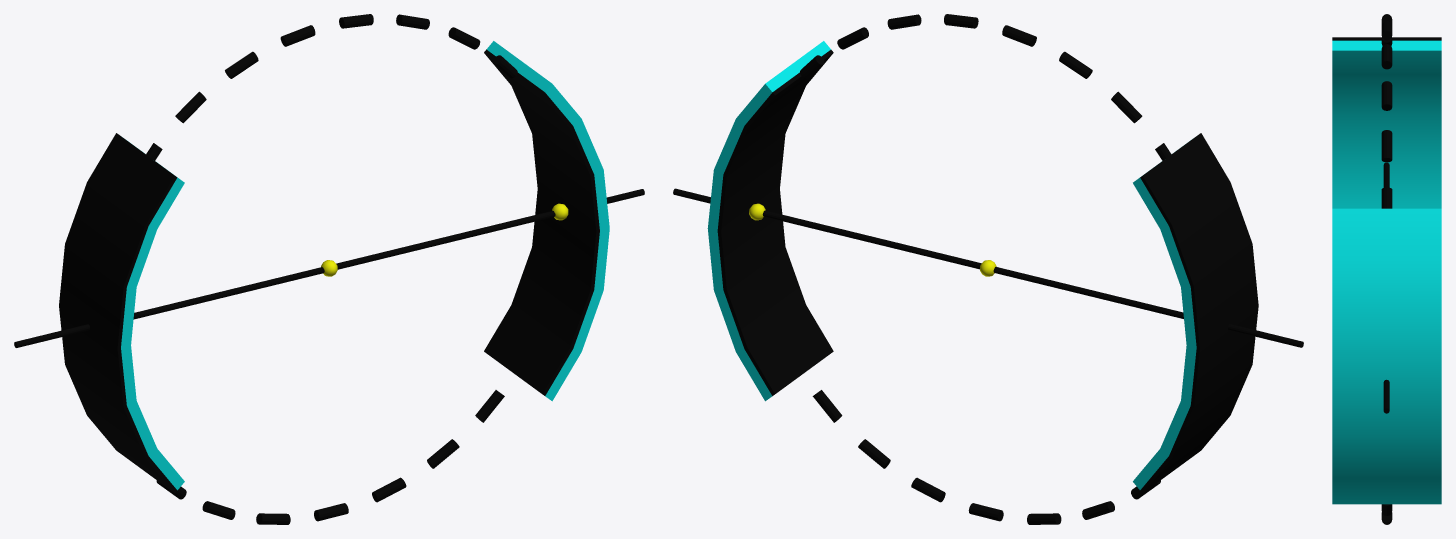
3 views of the same model, side by side, from view 1: azimuth 30°, elevation 25°; view 2: azimuth 150°, elevation 25°; view 3: azimuth 270°, elevation 25° (orthographic). The views are drawn at different scales.
Visible parts, largest first — view 1: concave, convex, dot_circle, center_line; view 2: concave, convex, dot_circle, center_line; view 3: convex, concave, dot_circle, center_line.
Part boxes in pixels (x1,y1,x2,y2): concave: (59, 133, 184, 492); convex: (484, 41, 609, 401); dot_circle: (146, 14, 517, 524); center_line: (14, 189, 644, 347); concave: (1133, 133, 1258, 493); convex: (707, 41, 833, 401); dot_circle: (800, 14, 1171, 524); center_line: (673, 188, 1303, 347); convex: (1332, 208, 1441, 504); concave: (1332, 37, 1441, 208); dot_circle: (1381, 14, 1392, 524); center_line: (1383, 162, 1389, 413).
Size of the model in its own units: 111 by 83.69 by 17.9.
